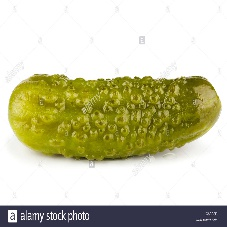cucumber: (6, 74, 221, 157)
